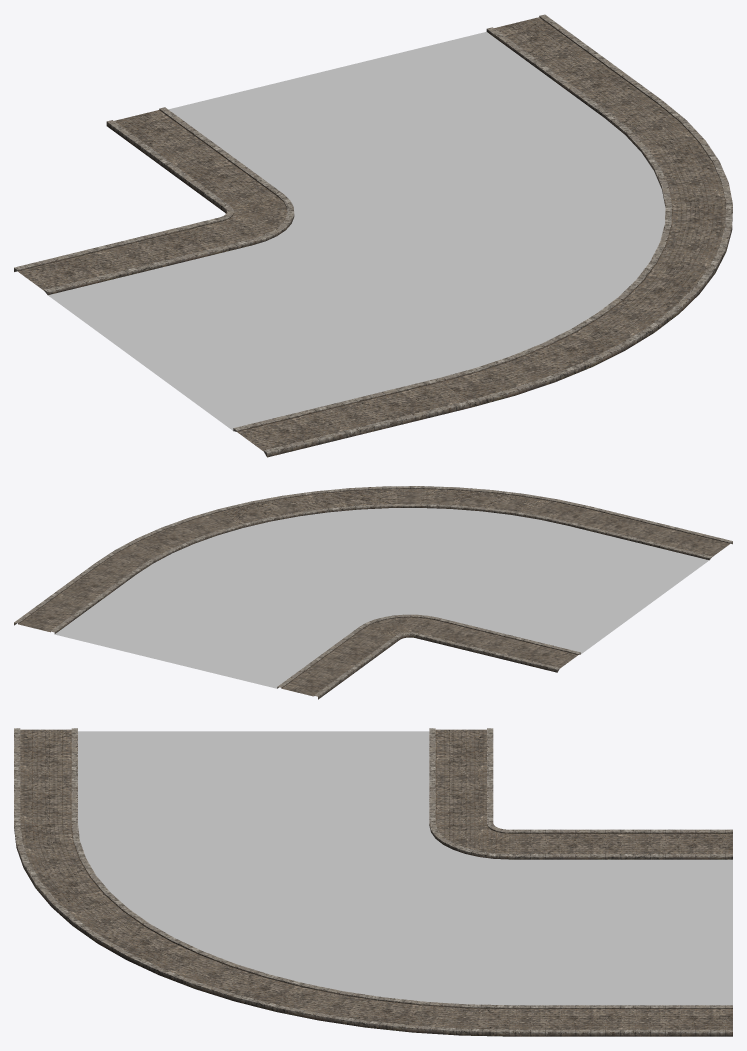
Rendered from Road5.fbx.
The picture shows the model from 3 angles, top to bottom: view 1: azimuth 30°, elevation 25°; view 2: azimuth 150°, elevation 25°; view 3: azimuth 270°, elevation 25°; orthographic projection. The views are drawn at different scales.
Parts seen in each view (by area): view 1: polySurface39; view 2: polySurface39; view 3: polySurface39.
Part boxes in pixels (<box>): polySurface39: <box>14,14,732,457</box>; polySurface39: <box>14,486,732,699</box>; polySurface39: <box>14,728,732,1036</box>.
Size of the model in its own units: 22.5 by 0.1527 by 22.5.
